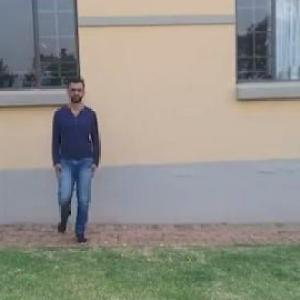follow: (50, 73, 100, 242)
